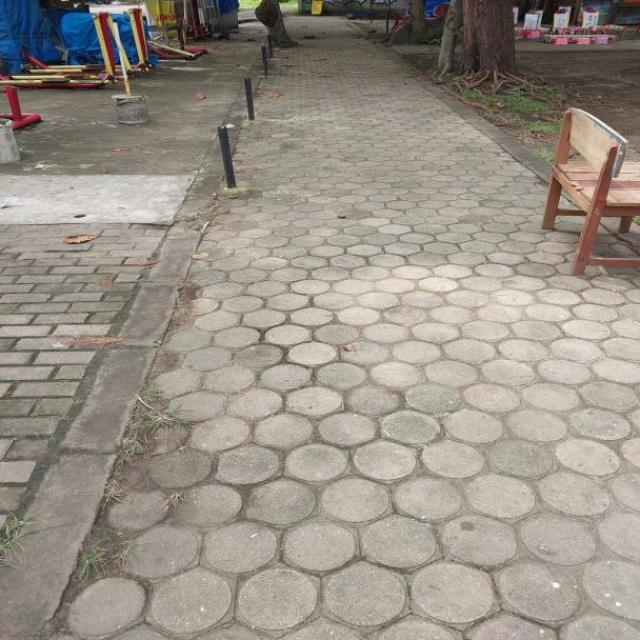chair ahead at: (541, 104, 640, 278)
